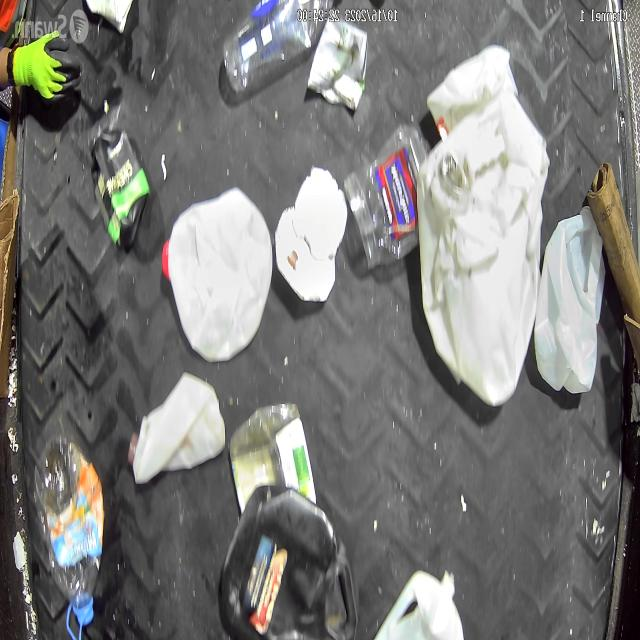milk_jug: (416, 119, 542, 409), (162, 185, 273, 362), (533, 207, 607, 396), (128, 375, 226, 485), (369, 570, 464, 640)
non_white_jug: (221, 483, 358, 640), (91, 127, 149, 248)
plastic_bottle: (32, 432, 104, 628), (343, 126, 430, 269), (220, 0, 333, 96), (228, 398, 318, 506)
